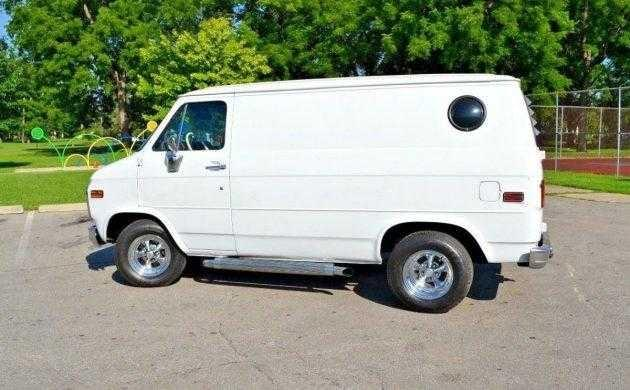car: (83, 74, 560, 299)
